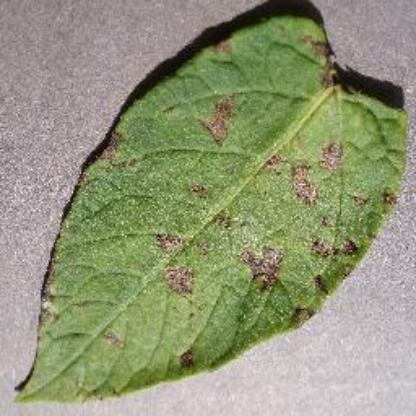Early-Blight: (11, 14, 408, 408)
